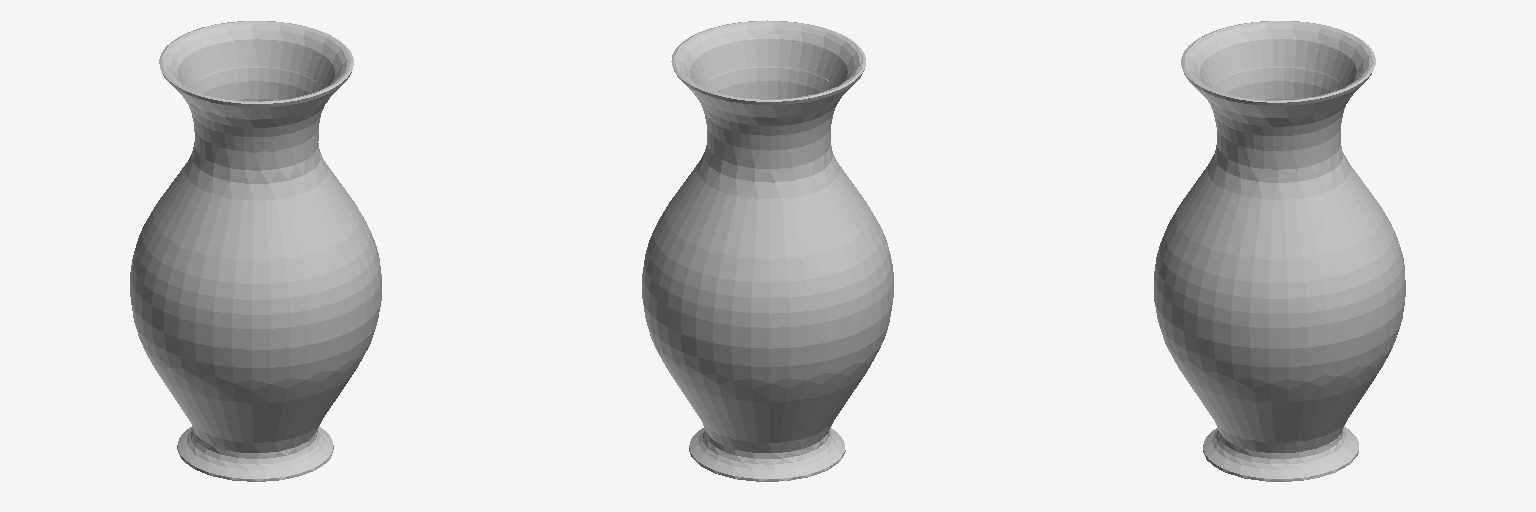
The model's file is vase.obj.
3 views of the same model, side by side, from view 1: azimuth 30°, elevation 25°; view 2: azimuth 150°, elevation 25°; view 3: azimuth 270°, elevation 25° (orthographic).
Parts seen in each view (by area): view 1: vase_NurbsPath.001; view 2: vase_NurbsPath.001; view 3: vase_NurbsPath.001.
Boxes of the visible parts, box(x1,y1,x2,y2) form: vase_NurbsPath.001: box(130, 21, 381, 481); vase_NurbsPath.001: box(642, 20, 893, 481); vase_NurbsPath.001: box(1154, 21, 1405, 481).
Size of the model in its own units: 15.96 by 27.42 by 15.96.